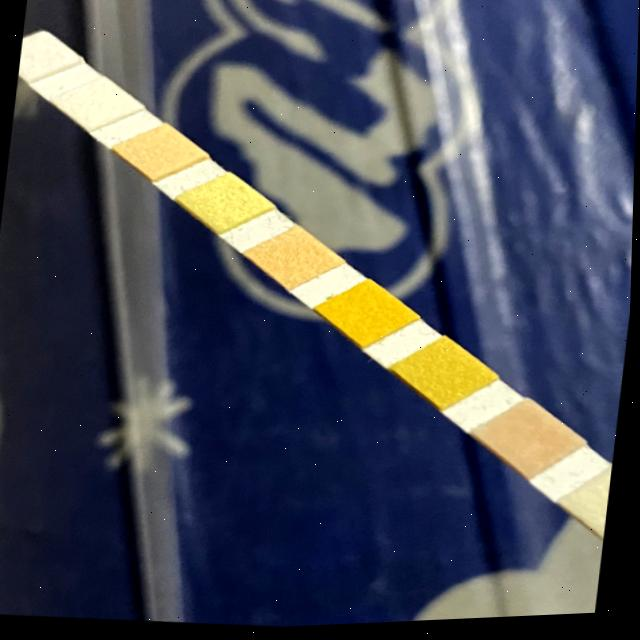Bilirubin: (592, 494, 612, 535)
Blood: (340, 296, 396, 336)
Ketone: (503, 422, 560, 468)
Leukocytes: (19, 41, 62, 71)
Nitrite: (74, 87, 124, 120)
Protein: (201, 187, 251, 224)
SpGravity: (416, 355, 474, 399)
Urobilinogen: (136, 134, 188, 172)
pH: (268, 241, 322, 280)
